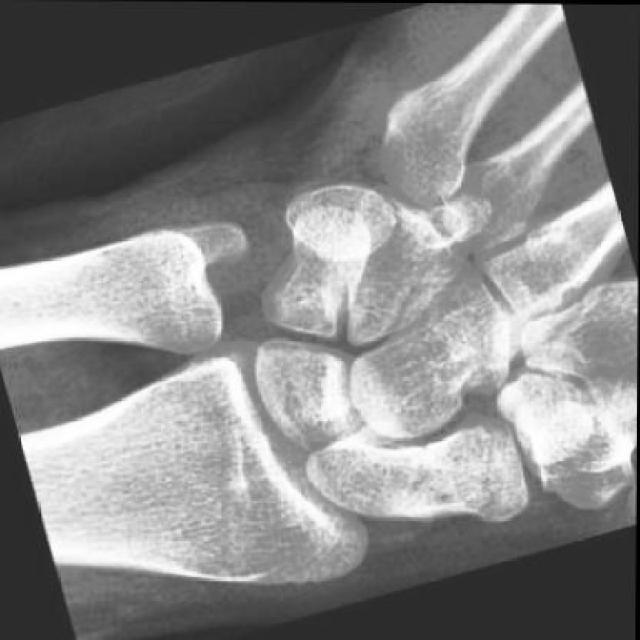Fracture: (380, 426, 465, 527)
